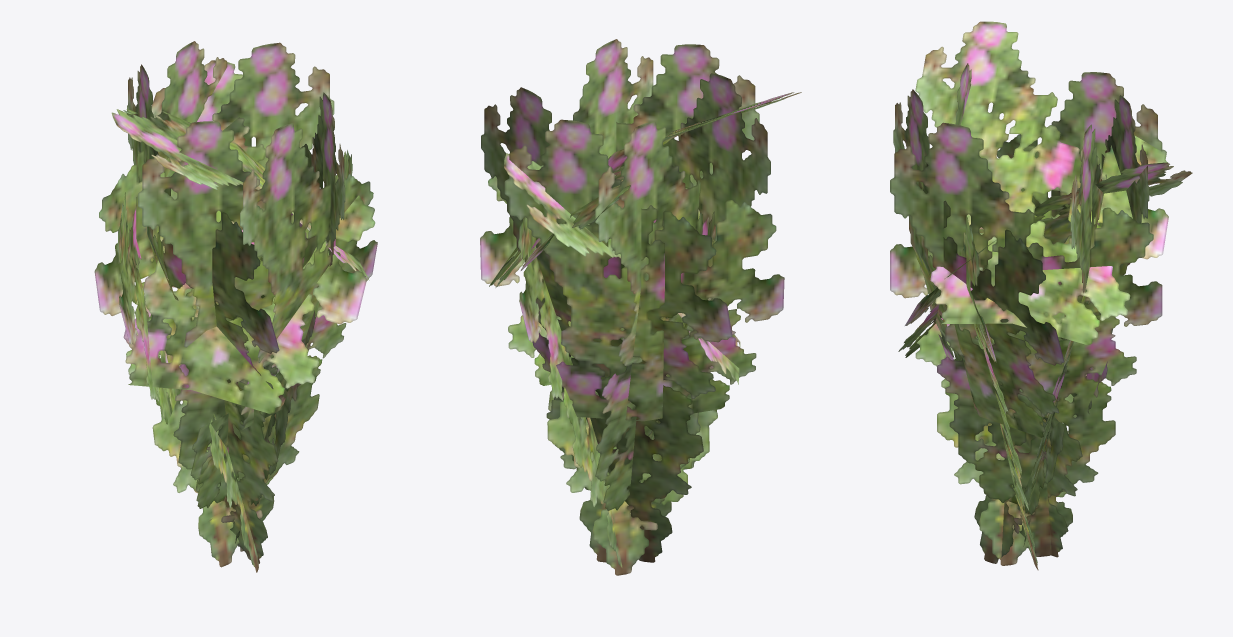
Rendered from Wild Rose.fbx.
The picture shows the model from 3 angles, left to right: view 1: azimuth 30°, elevation 25°; view 2: azimuth 150°, elevation 25°; view 3: azimuth 270°, elevation 25°; orthographic projection. The views are drawn at different scales.
Parts seen in each view (by area): view 1: Wild Rose; view 2: Wild Rose; view 3: Wild Rose.
Part boxes in pixels (x1=…): Wild Rose: x1=94, y1=41, x2=377, y2=572; Wild Rose: x1=480, y1=39, x2=801, y2=575; Wild Rose: x1=890, y1=21, x2=1192, y2=570.
Bounding box in the file's own units: 1.41 × 1.97 × 1.29.
1 material, 1 textured.
